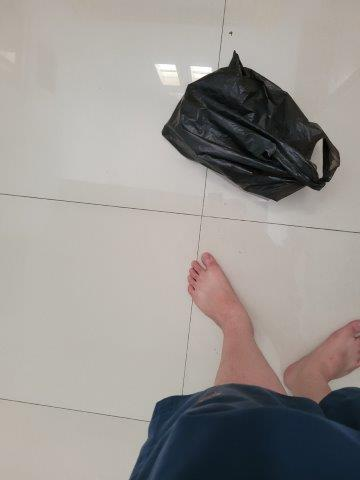plastik: (160, 51, 341, 203)
